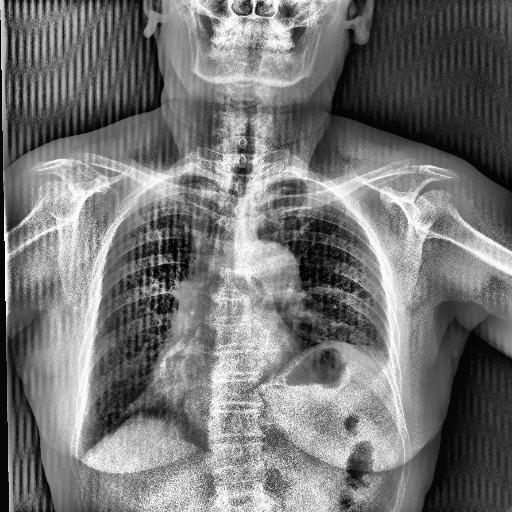0- Aortic enlargement: (198, 227, 306, 323), (178, 235, 312, 312), (230, 235, 308, 319)
1- Atelectasis: (254, 337, 404, 396)
10- Pleural effusion: (344, 334, 404, 394)
4- Consolidation: (137, 362, 205, 434)
7- Lung Opacity: (136, 318, 207, 434), (184, 167, 240, 225)
9- Other lesion: (260, 331, 400, 400), (255, 338, 382, 405)
